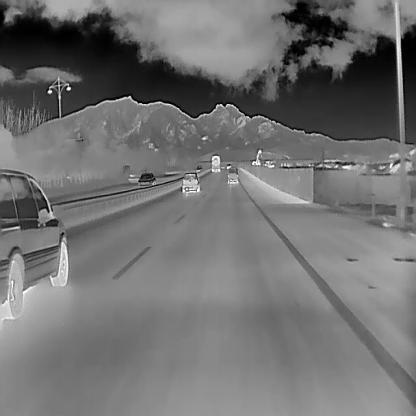car: (0, 168, 68, 319), (182, 171, 200, 193), (137, 172, 155, 186), (227, 166, 238, 184), (211, 155, 221, 173), (195, 164, 201, 171), (225, 162, 231, 169)
